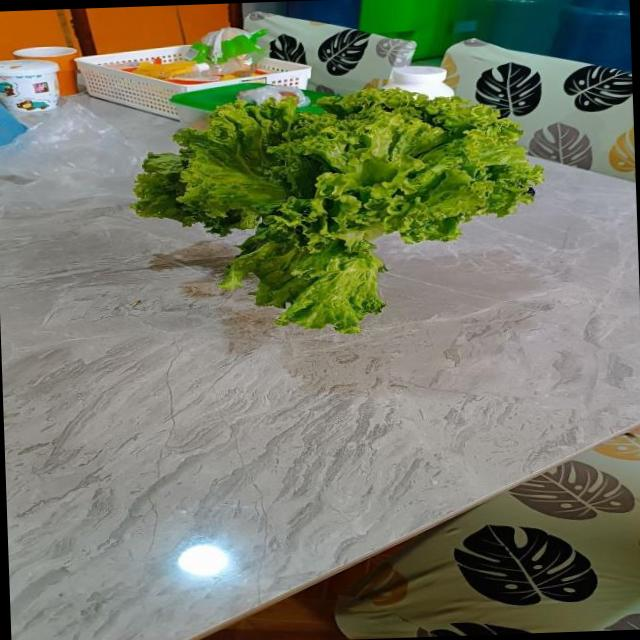Lettuce-Ready-to-Harvest: (129, 78, 544, 334)
